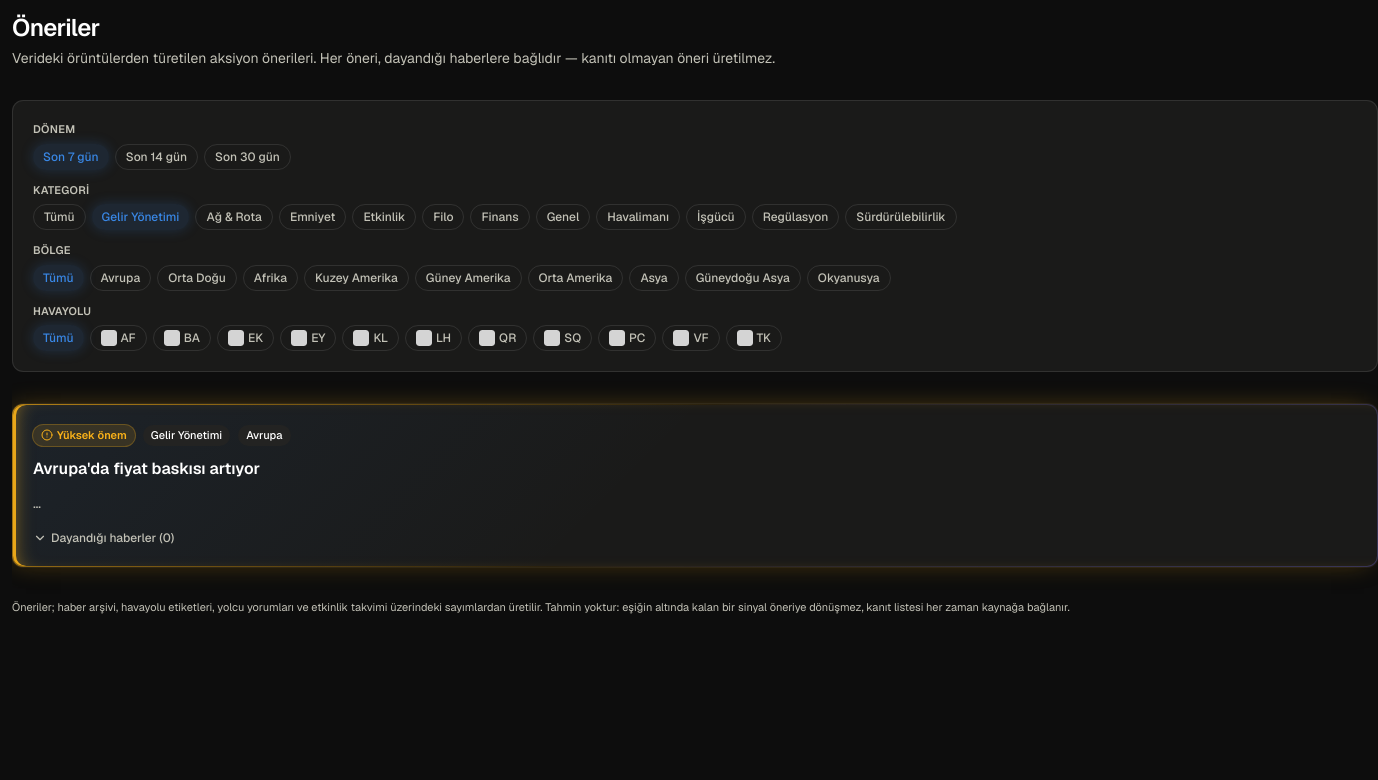
Test: RecommendationsClient › removes the cards a filter excludes instead of leaving them on screen
The width and height of the screenshot is (1378, 780).
Expected: the heading "Avrupa'da fiyat baskısı artıyor" is shown, [33,458,260,478]
Click the button "Filo" at {"x": 443, "y": 217}, box [422,204,464,230]
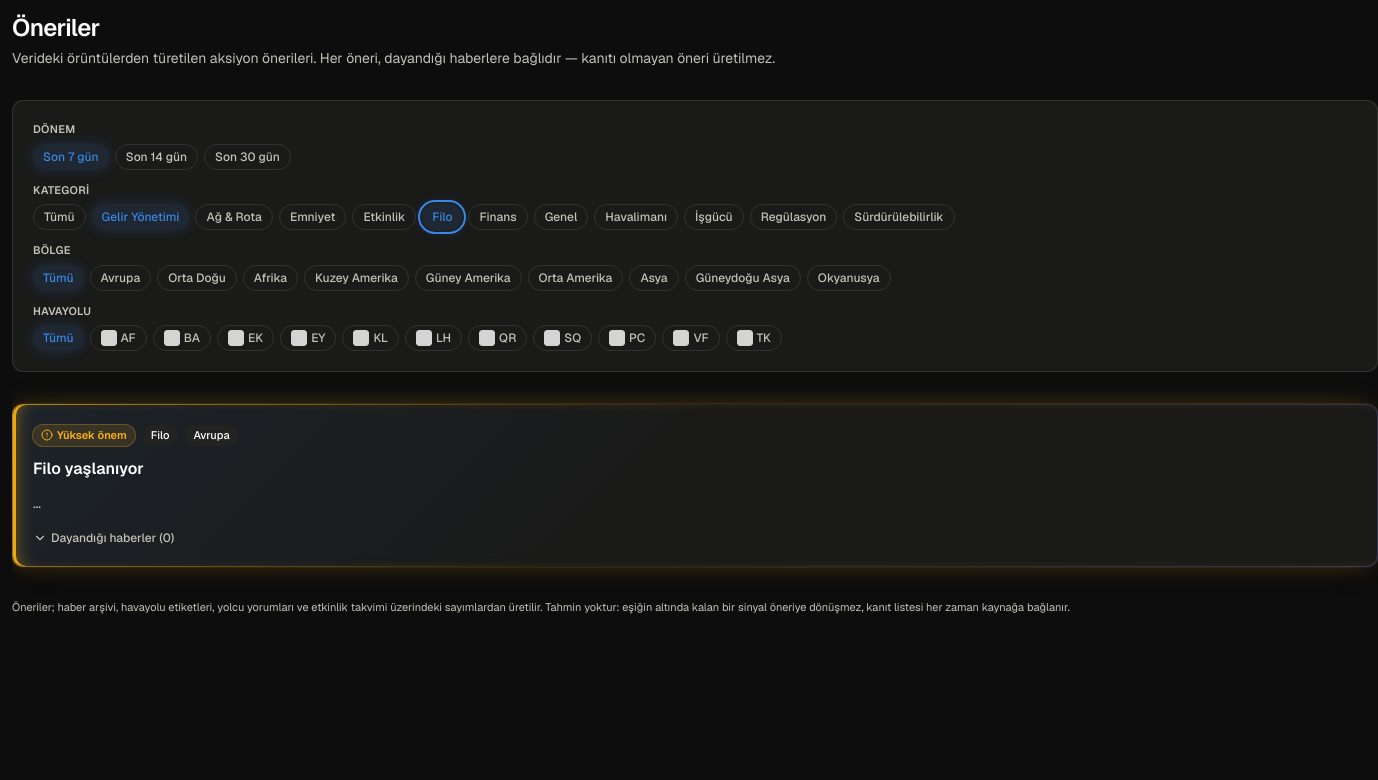
Now the heading "Filo yaşlanıyor" is shown, box [33,458,144,478]
Now the heading "Avrupa'da fiyat baskısı artıyor" is gone
